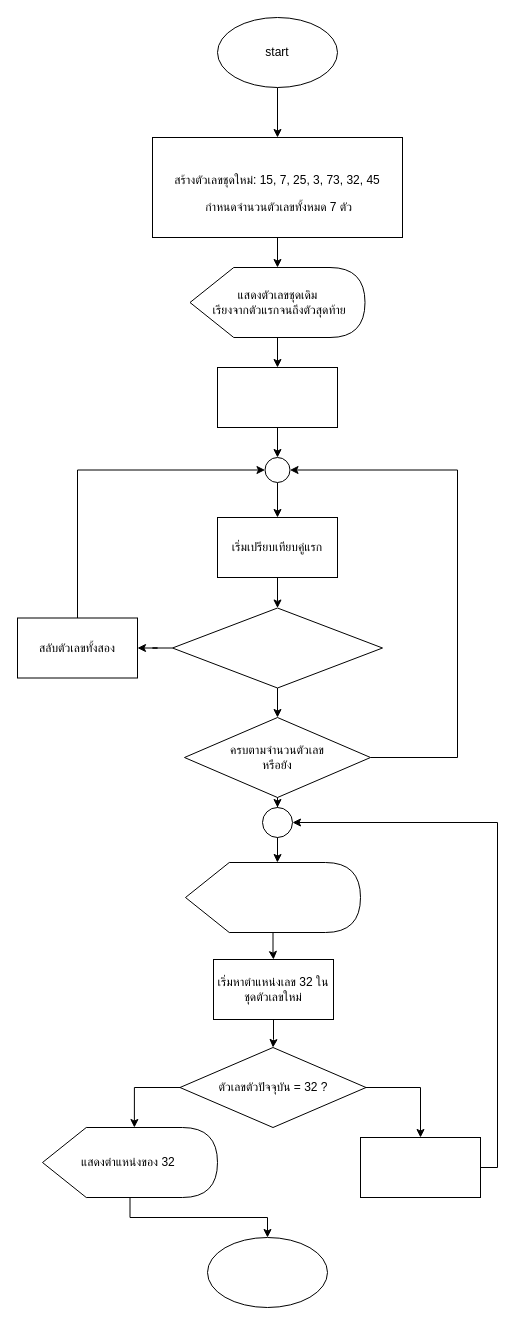
The diagram is 523 pixels wide and 1325 high, and some of its shapes have lost their labels. The shapes that lost their labels are listed below. From the top down, each one's centre as x and y in pixels, then its label:
(x=277, y=397): เริ่มเรียงตัวเลขจากน้อยไปมาก (Bubble Sort)
(x=277, y=647): ตัวเลขตัวแรก > ตัวเลขถัดไป ?
(x=272, y=897): แสดงตัวเลขชุดใหม่ หลังเรียงจากน้อยไปมาก
(x=420, y=1167): ดูตัวเลขตัวถัดไป
(x=267, y=1272): end
